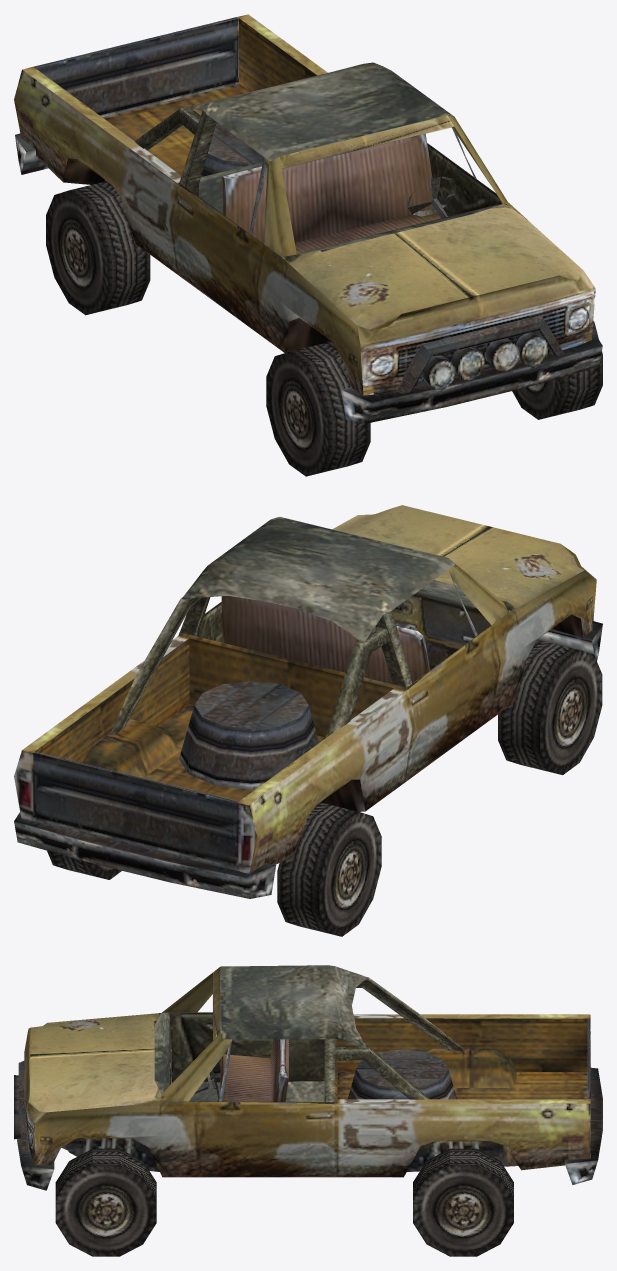
Rendered from etek2p.glb.
3 renders of one model, top to bottom at view 1: azimuth 30°, elevation 25°; view 2: azimuth 150°, elevation 25°; view 3: azimuth 270°, elevation 25°, orthographic. The views are drawn at different scales.
Visible parts, largest first — view 1: _etek2p; view 2: _etek2p; view 3: _etek2p.
Part boxes in pixels (x1,y1,x2,y2): _etek2p: [14, 14, 602, 476]; _etek2p: [14, 505, 602, 936]; _etek2p: [14, 965, 602, 1256].
Size of the model in its own units: 2.67 by 2.35 by 6.11.
Materials: 3 (3 with a texture image).
